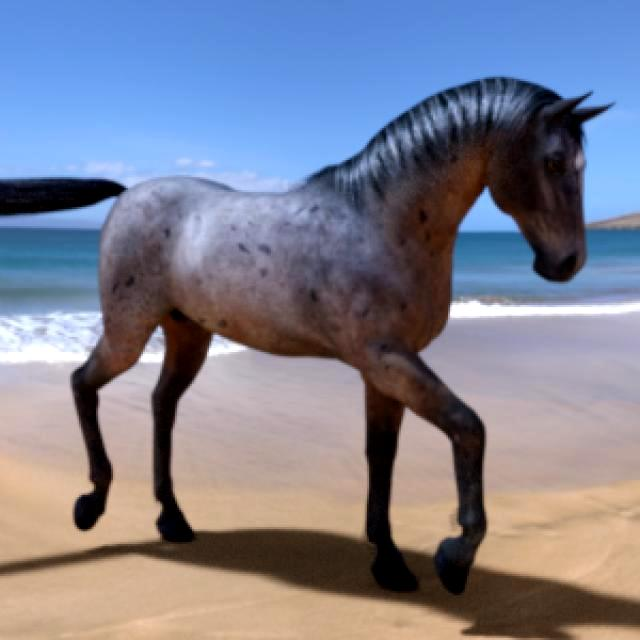horse: (0, 79, 609, 592)
